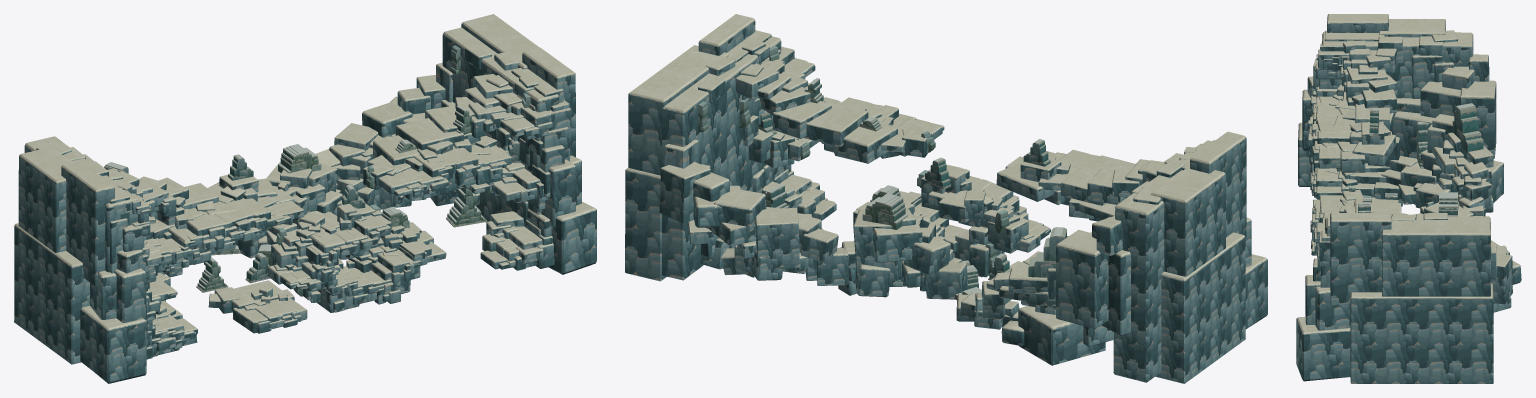
The picture shows the model from 3 angles, left to right: view 1: azimuth 30°, elevation 25°; view 2: azimuth 150°, elevation 25°; view 3: azimuth 270°, elevation 25°; orthographic projection. The views are drawn at different scales.
Parts seen in each view (by area): view 1: A003_L_001, A003_R_001, A006_F008, A006_F001, A006_F005, A006_F009, A006_F007, A006_F002, A006_F011, A006_B004, A006_F004, A006_B002 (+8 smaller); view 2: A003_L_001, A003_R_001, A006_B001, A006_B002, A006_B003, A006_B004, A006_F008, A006_F005, A006_F009, A006_F001, A006_F002, A006_F011 (+6 smaller); view 3: A003_R_001, A006_B001, A003_L_001, A006_F001, A006_F002, A006_F003, A006_F008, A006_B004, Rocks_Medium_002 (3), Rocks_Medium_005 (2), Rocks_Medium_001 (3), A006_B002 (+2 smaller).
Part boxes in pixels (<box>): A003_L_001: <box>14,136,147,383</box>; A003_R_001: <box>442,14,596,274</box>; A006_F008: <box>363,118,511,199</box>; A006_F001: <box>107,168,237,282</box>; A006_F005: <box>268,203,391,291</box>; A006_F009: <box>425,74,552,145</box>; A006_F007: <box>346,222,446,304</box>; A006_F002: <box>206,174,304,241</box>; A006_F011: <box>480,201,554,270</box>; A006_B004: <box>362,62,480,206</box>; A006_F004: <box>208,280,307,333</box>; A006_B002: <box>237,162,348,259</box>; A003_L_001: <box>1113,131,1267,383</box>; A003_R_001: <box>625,14,781,281</box>; A006_B001: <box>956,216,1130,365</box>; A006_B002: <box>838,207,968,299</box>; A006_B003: <box>709,207,848,285</box>; A006_B004: <box>659,139,766,269</box>; A006_F008: <box>803,97,944,163</box>; A006_F005: <box>921,165,1050,253</box>; A006_F009: <box>736,46,831,138</box>; A006_F001: <box>1061,143,1201,221</box>; A006_F002: <box>996,150,1118,218</box>; A006_F011: <box>762,164,836,220</box>; A003_R_001: <box>1296,213,1493,383</box>; A006_B001: <box>1368,54,1503,216</box>; A003_L_001: <box>1298,14,1473,186</box>; A006_F001: <box>1307,41,1397,132</box>; A006_F002: <box>1308,115,1395,172</box>; A006_F003: <box>1309,146,1403,206</box>; A006_F008: <box>1311,189,1401,256</box>; A006_B004: <box>1491,244,1521,312</box>; Rocks_Medium_002 (3): <box>1452,103,1483,152</box>; Rocks_Medium_005 (2): <box>1438,192,1458,216</box>; Rocks_Medium_001 (3): <box>1417,122,1429,168</box>; A006_B002: <box>1413,201,1473,216</box>.
Size of the model in its own units: 150 by 52.35 by 65.92.
7 materials, 7 textured.
